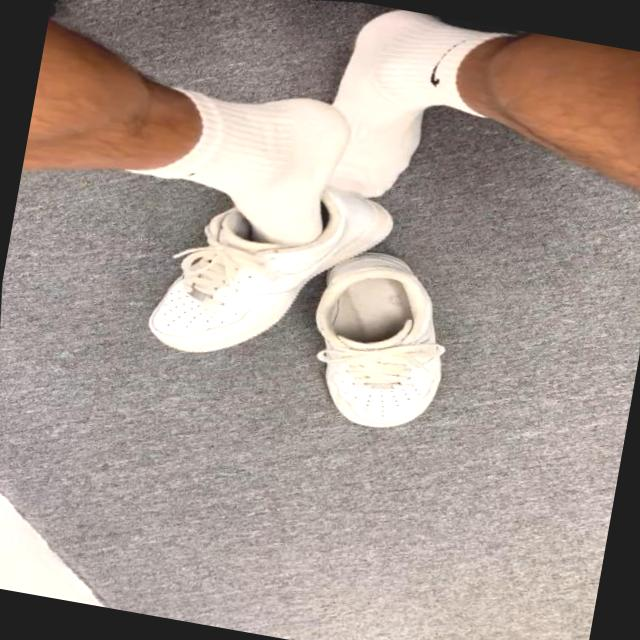nike_original_airforce: (112, 136, 417, 392), (281, 231, 478, 452)
